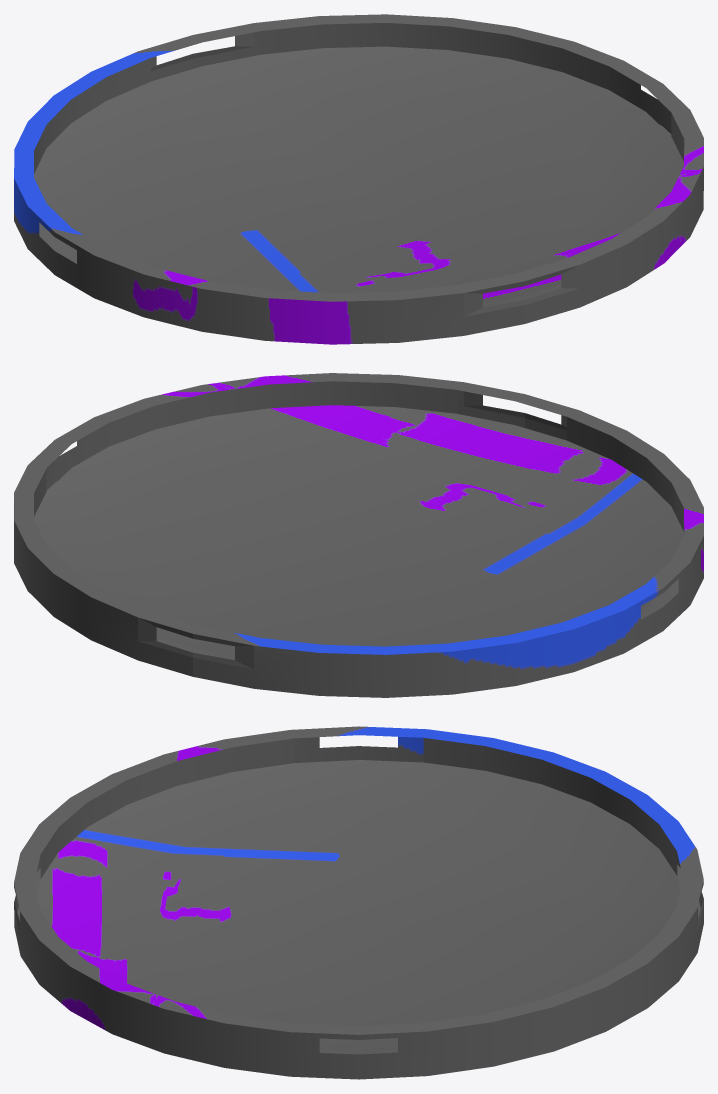
The model's file is center_platform_top_metalpart.fbx.
3 renders of one model, top to bottom at view 1: azimuth 30°, elevation 25°; view 2: azimuth 150°, elevation 25°; view 3: azimuth 270°, elevation 25°, orthographic. The views are drawn at different scales.
Parts seen in each view (by area): view 1: portal_top.001; view 2: portal_top.001; view 3: portal_top.001.
Part boxes in pixels (x1,y1,x2,y2): portal_top.001: [14, 14, 703, 344]; portal_top.001: [14, 373, 703, 697]; portal_top.001: [14, 726, 703, 1079].
Bounding box in the file's own units: 401 × 36.65 × 379.
Materials: 1 (1 with a texture image).
